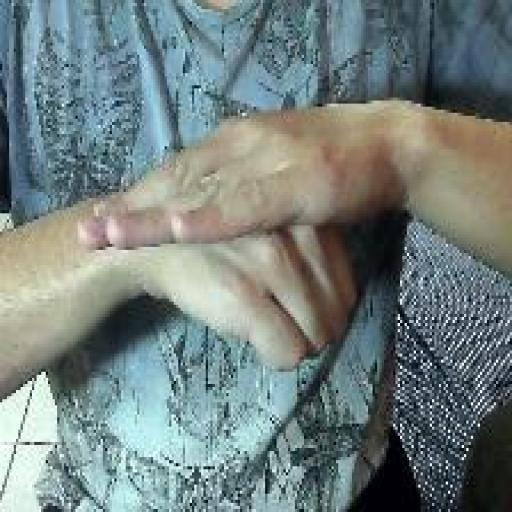Inu -dog-: (74, 104, 362, 378)
